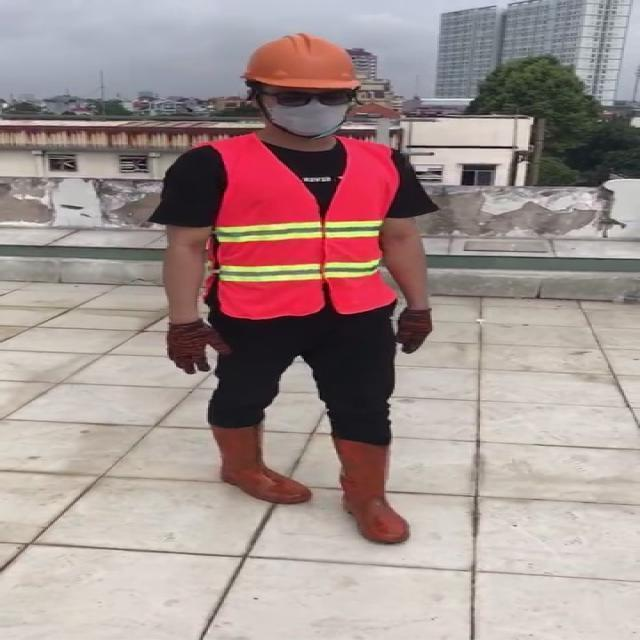gloves: (167, 318, 232, 376), (392, 306, 432, 355)
goggles: (254, 89, 357, 107)
helmet: (240, 34, 365, 89)
safety_vest: (215, 136, 398, 318)
